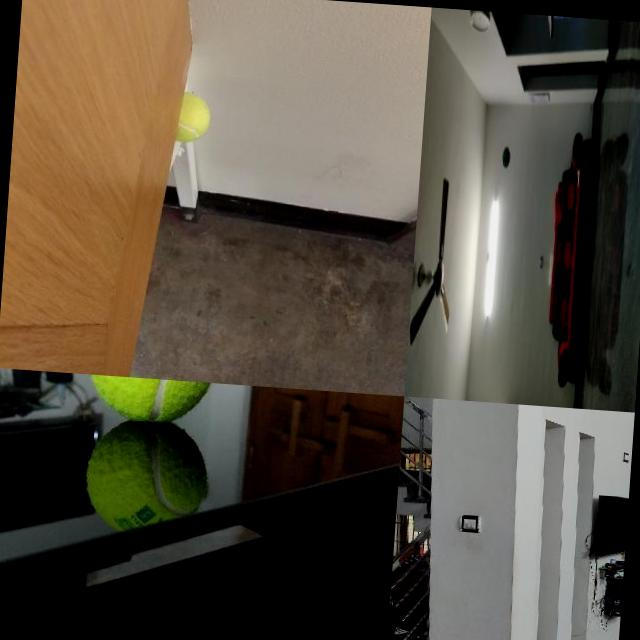Tennis Ball: (84, 374, 214, 427), (181, 90, 212, 144), (501, 145, 511, 168)
